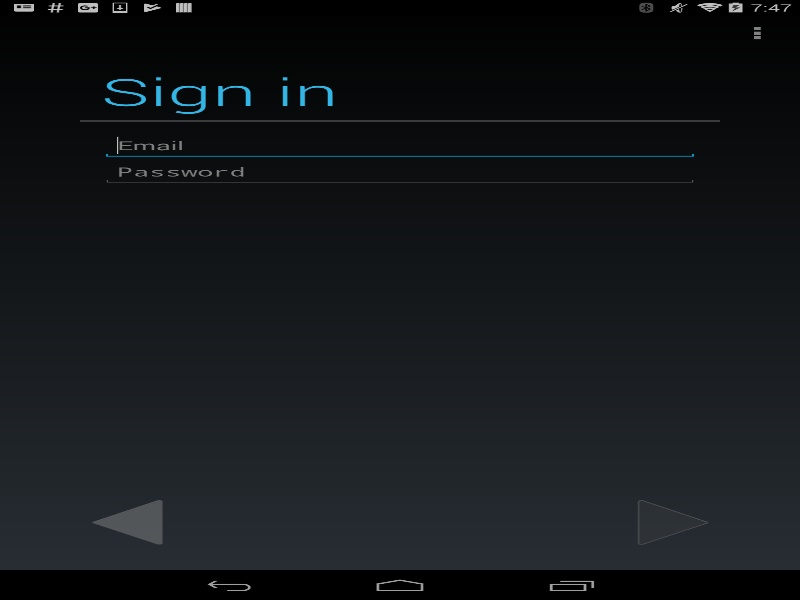Button: (625, 494, 720, 550), (80, 494, 174, 550), (714, 15, 800, 50)
Input: (101, 158, 698, 185), (101, 132, 698, 158)
